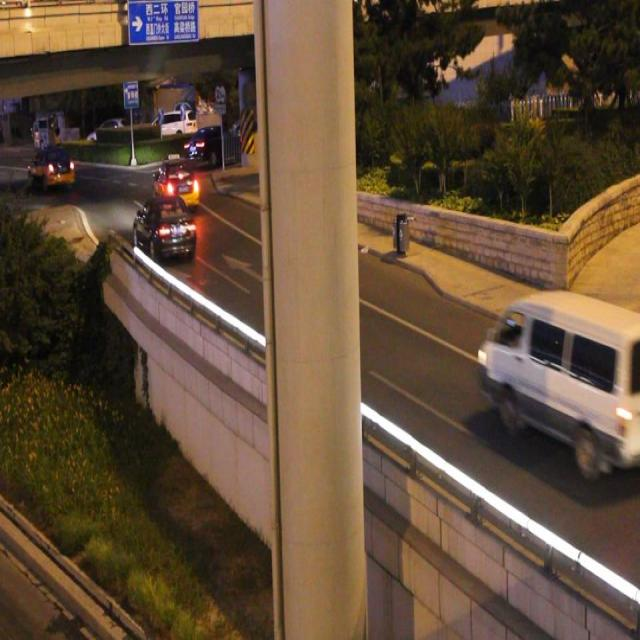car: (133, 194, 196, 261), (153, 156, 200, 213)
truck: (477, 288, 640, 473)
